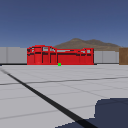green_cube: (57, 63, 61, 65)
obstacle: (118, 47, 128, 65)
red_basket: (27, 45, 94, 65)
